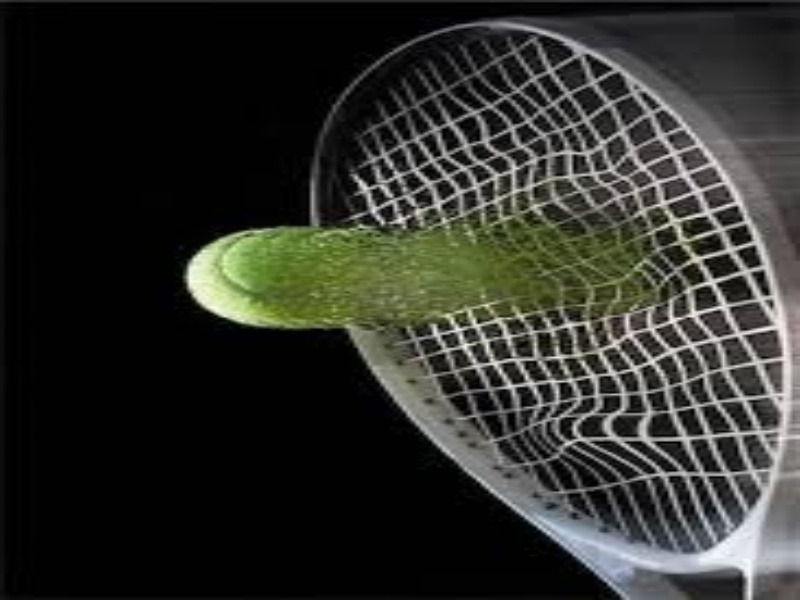tennis ball: (160, 221, 382, 367)
